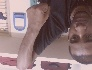hand: (25, 2, 51, 29)
